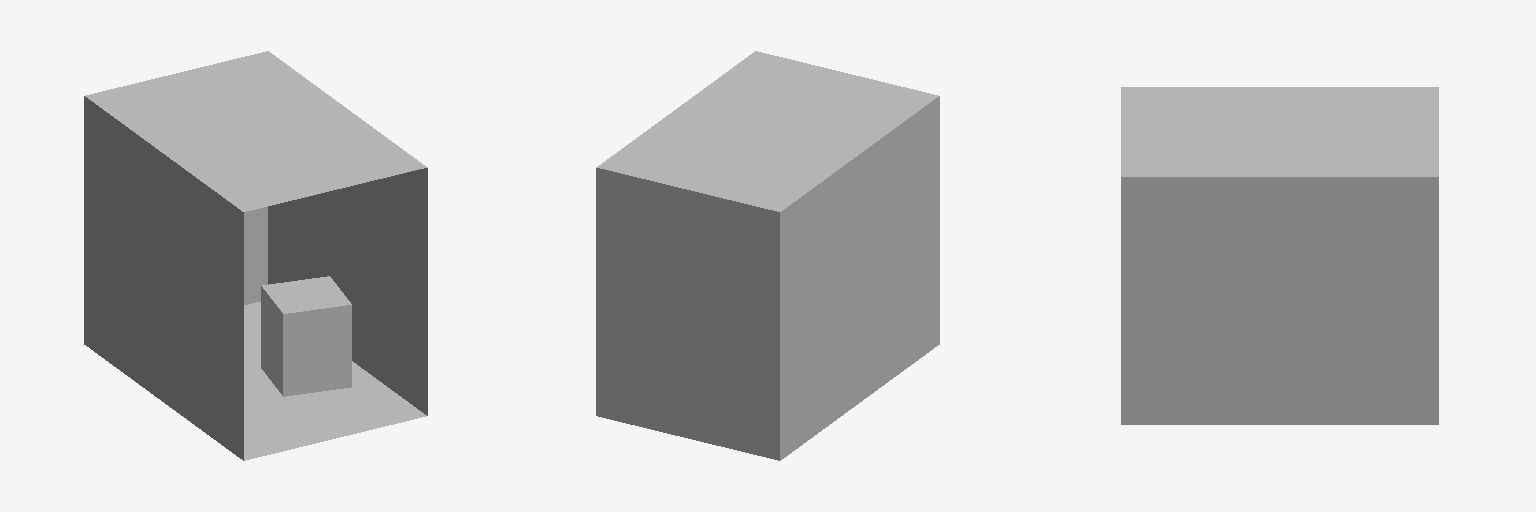
File: CornellBox.obj
The picture shows the model from 3 angles: view 1: azimuth 30°, elevation 25°; view 2: azimuth 150°, elevation 25°; view 3: azimuth 270°, elevation 25°; orthographic projection.
Parts seen in each view (by area): view 1: Box01, Box03; view 2: Box01; view 3: Box01.
Boxes of the visible parts, box(x1,y1,x2,y2) form: Box01: box(84, 51, 427, 460); Box03: box(261, 276, 351, 396); Box01: box(596, 51, 939, 460); Box01: box(1121, 87, 1438, 424).
Bounding box in the file's own units: 13.25 × 17.12 × 19.88.